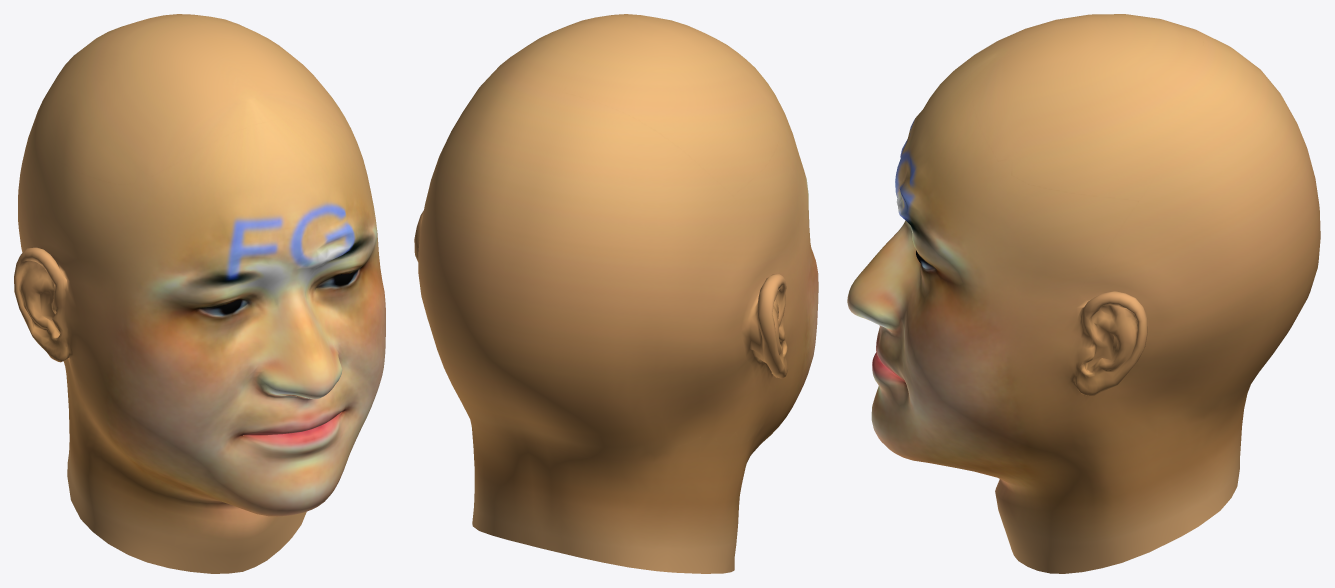
File: avg_anyrace_male_09.obj
The picture shows the model from 3 angles, left to right: view 1: azimuth 30°, elevation 25°; view 2: azimuth 150°, elevation 25°; view 3: azimuth 270°, elevation 25°; orthographic projection. The views are drawn at different scales.
Parts seen in each view (by area): view 1: HeadHires; view 2: HeadHires; view 3: HeadHires.
Boxes of the visible parts, <box> form: HeadHires: <box>14,14,385,573</box>; HeadHires: <box>414,14,818,573</box>; HeadHires: <box>847,14,1320,573</box>.
Size of the model in its own units: 195 by 283 by 233.
1 material, 1 textured.
